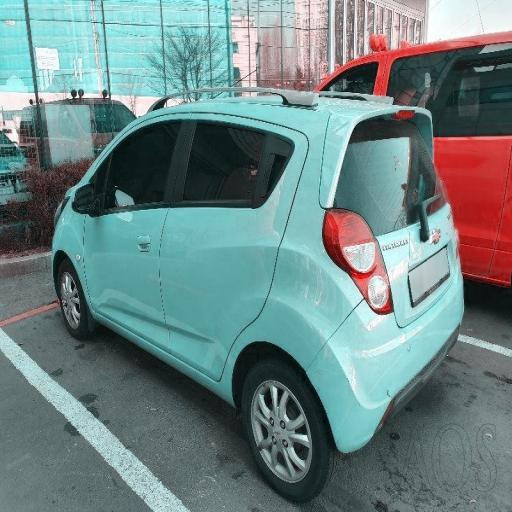dent: (90, 279, 236, 416)
